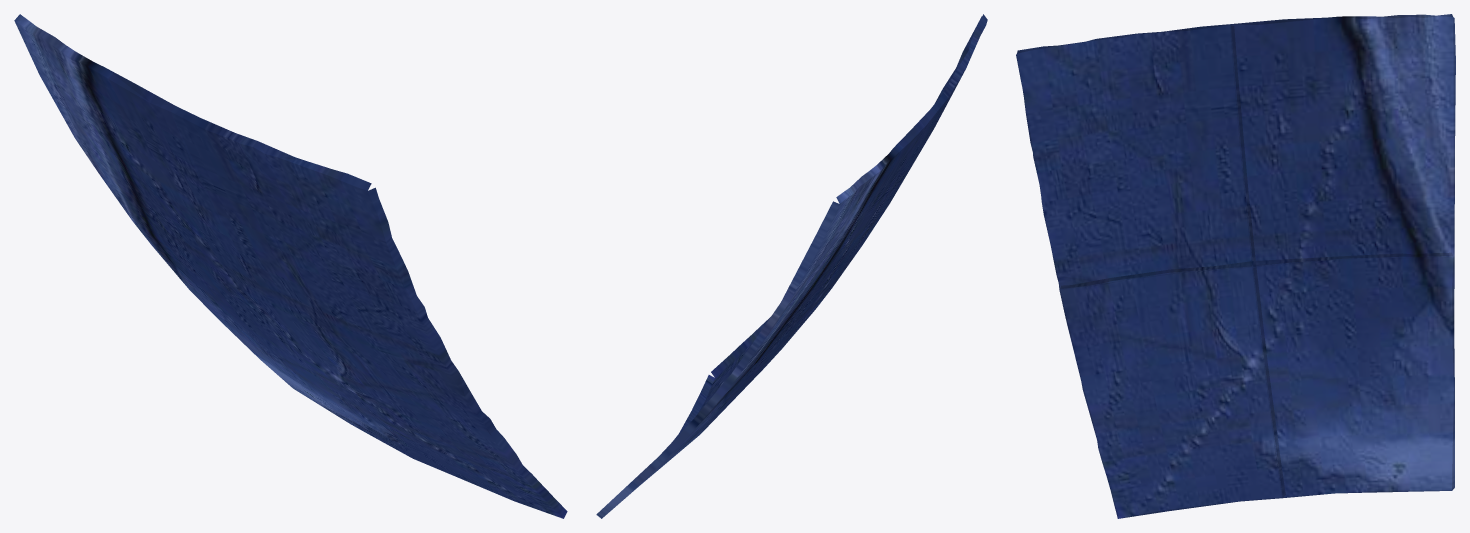
3 views of the same model, side by side, from view 1: azimuth 30°, elevation 25°; view 2: azimuth 150°, elevation 25°; view 3: azimuth 270°, elevation 25° (orthographic). The views are drawn at different scales.
Bounding box in the file's own units: 1755614 × 2102759 × 2285696.
1 material, 1 textured.
